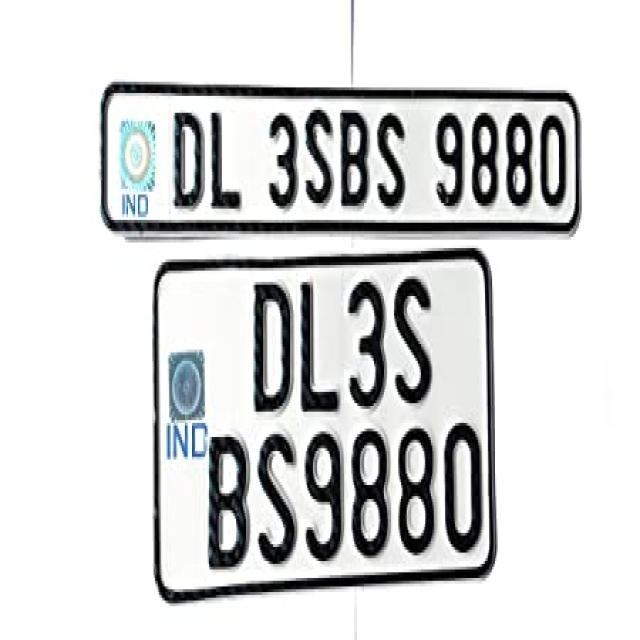plate: (149, 261, 508, 602), (95, 83, 583, 244)
